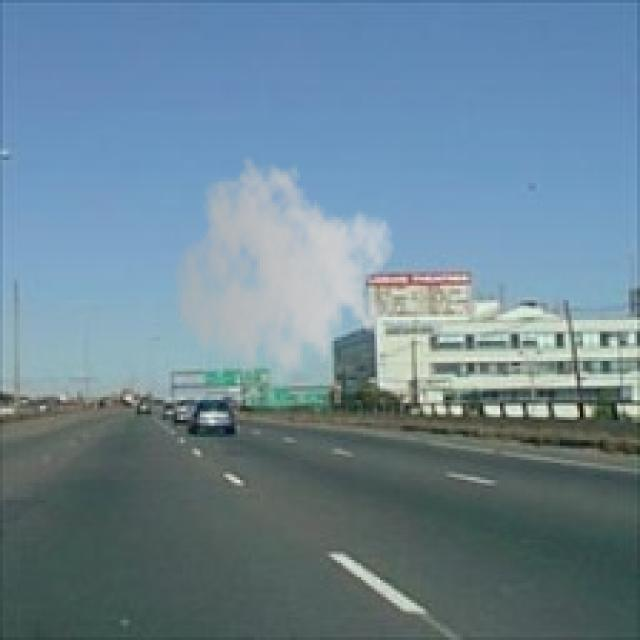Smoke: (172, 154, 398, 403)
